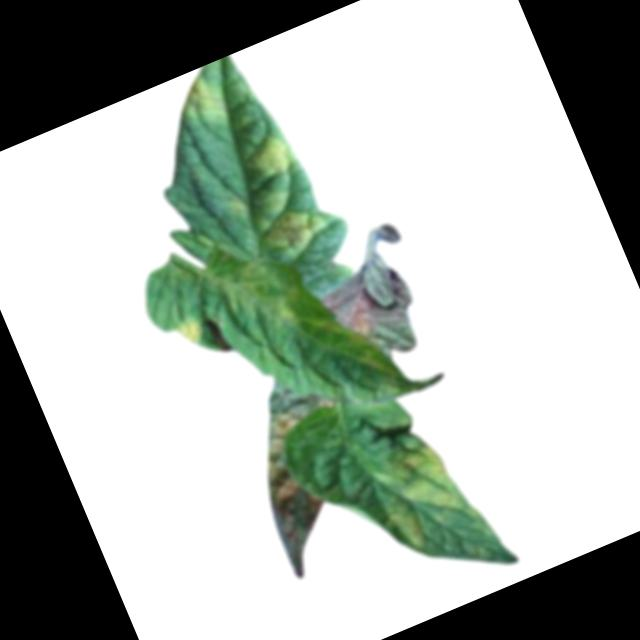Leaf_Mold: (360, 429, 482, 558), (247, 448, 344, 580), (315, 253, 426, 361), (247, 375, 343, 457), (257, 201, 333, 266), (168, 67, 230, 135), (241, 129, 305, 186), (170, 316, 210, 355)
